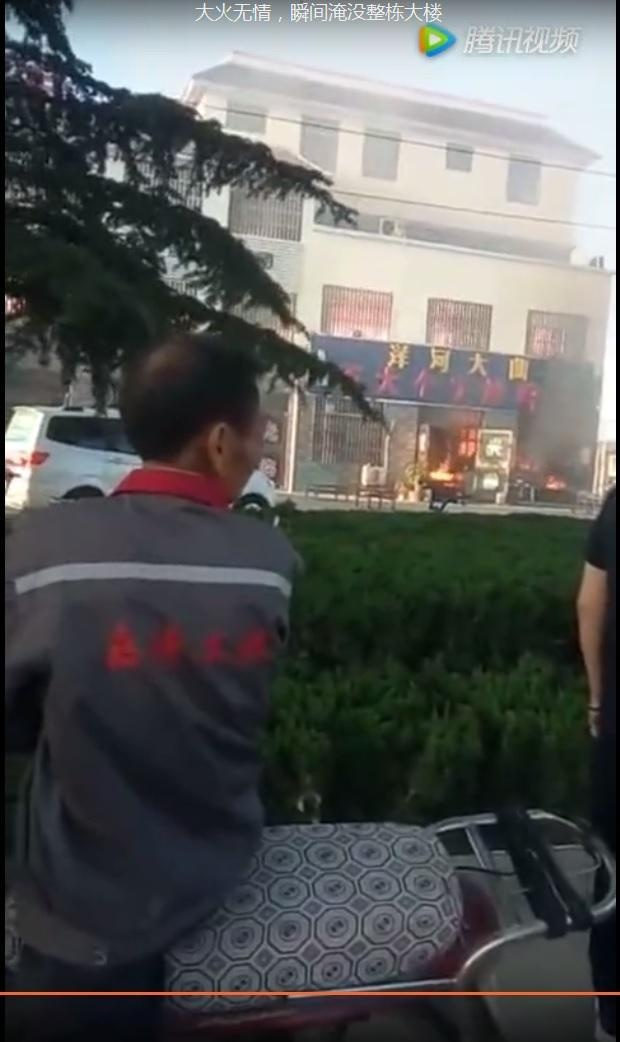fire: (427, 461, 460, 481)
